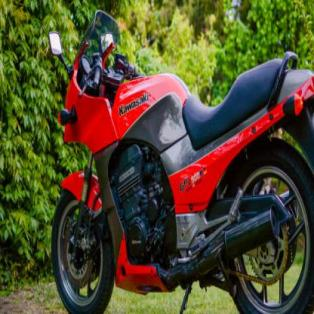Motocicleta: (41, 6, 314, 313)
